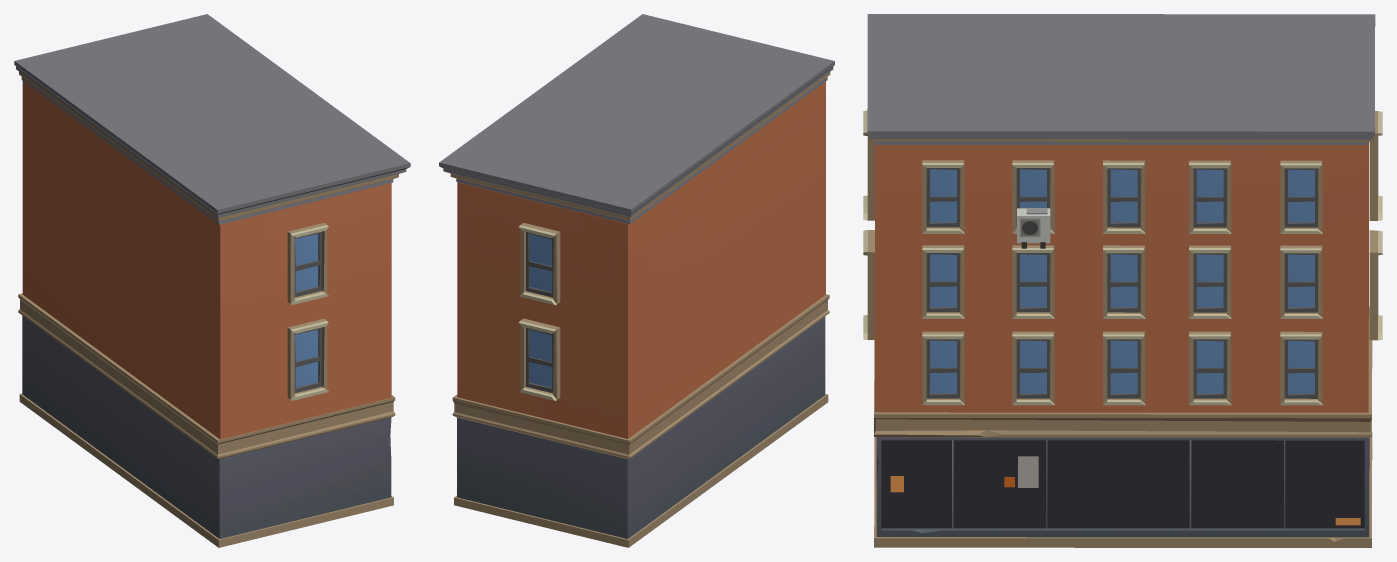
Rendered from Building 1.fbx.
3 renders of one model, left to right at view 1: azimuth 30°, elevation 25°; view 2: azimuth 150°, elevation 25°; view 3: azimuth 270°, elevation 25°, orthographic. The views are drawn at different scales.
Visible parts, largest first — view 1: Building_1; view 2: Building_1; view 3: Building_1, Ac.
Boxes of the visible parts, x1,y1,x2,y2 form: Building_1: (14,14,410,547); Building_1: (439,14,834,547); Building_1: (863,14,1382,547); Ac: (1017,208,1050,248).
Bounding box in the file's own units: 293 × 486 × 539.
